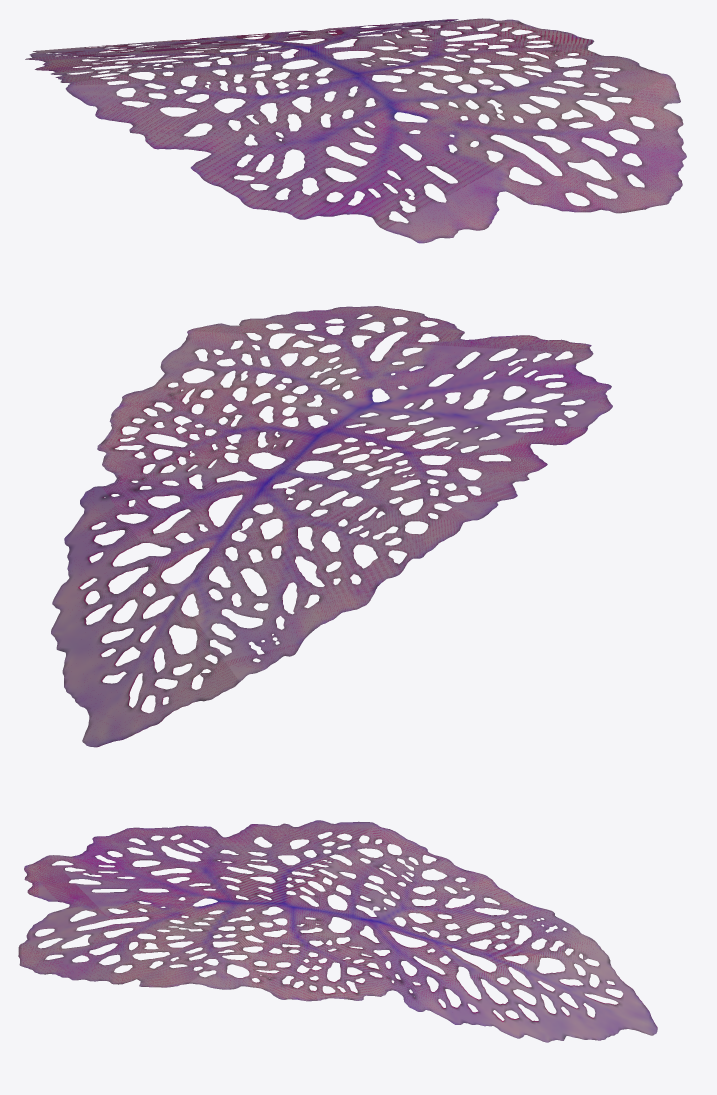
File: Spin Reef Leaf C.fbx
The picture shows the model from 3 angles, top to bottom: view 1: azimuth 30°, elevation 25°; view 2: azimuth 150°, elevation 25°; view 3: azimuth 270°, elevation 25°; orthographic projection. The views are drawn at different scales.
Parts seen in each view (by area): view 1: Spin Reef Leaf C; view 2: Spin Reef Leaf C; view 3: Spin Reef Leaf C.
Boxes of the visible parts, x1,y1,x2,y2 form: Spin Reef Leaf C: (25,18,686,243); Spin Reef Leaf C: (51,306,612,747); Spin Reef Leaf C: (18,820,657,1042).
Bounding box in the file's own units: 43.76 × 18.34 × 74.38.
